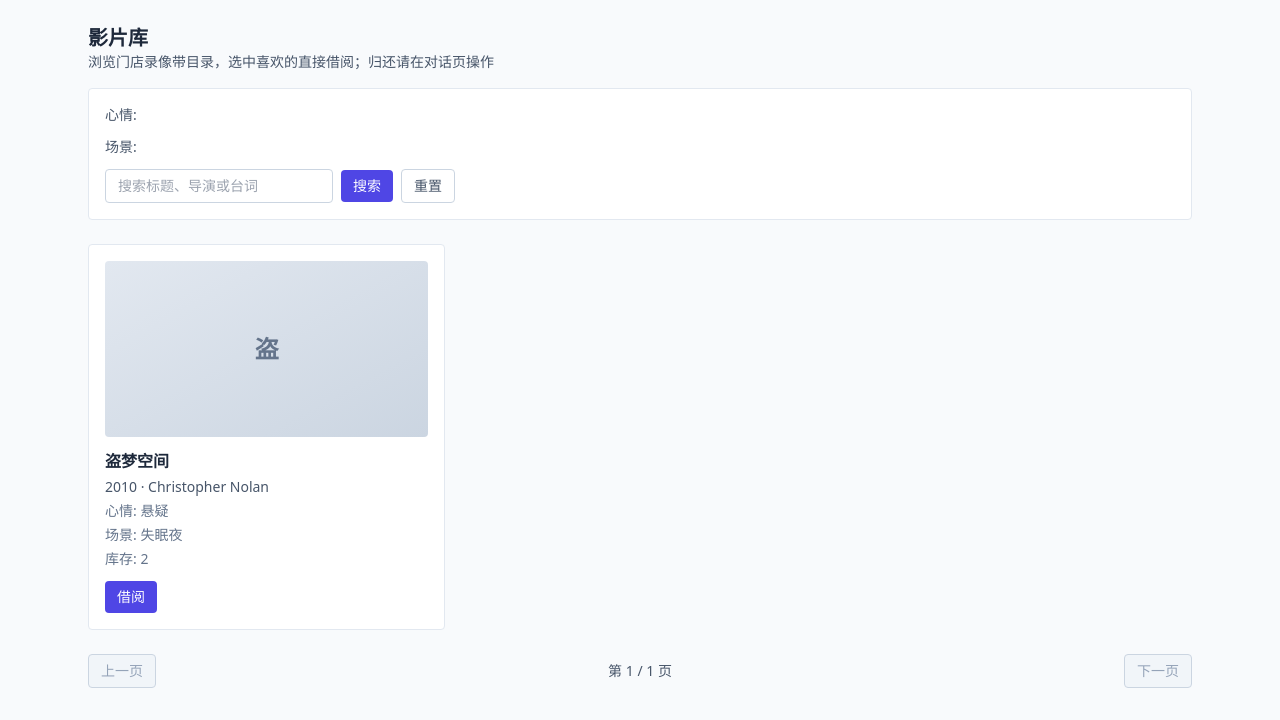
Scenario: MovieLibraryPage › shows an in-card friendly error when the borrow conflicts
Expected: the heading "盗梦空间" is shown, [105,450,169,472]
Click the button "借阅": (131, 597) [105,581,157,613]
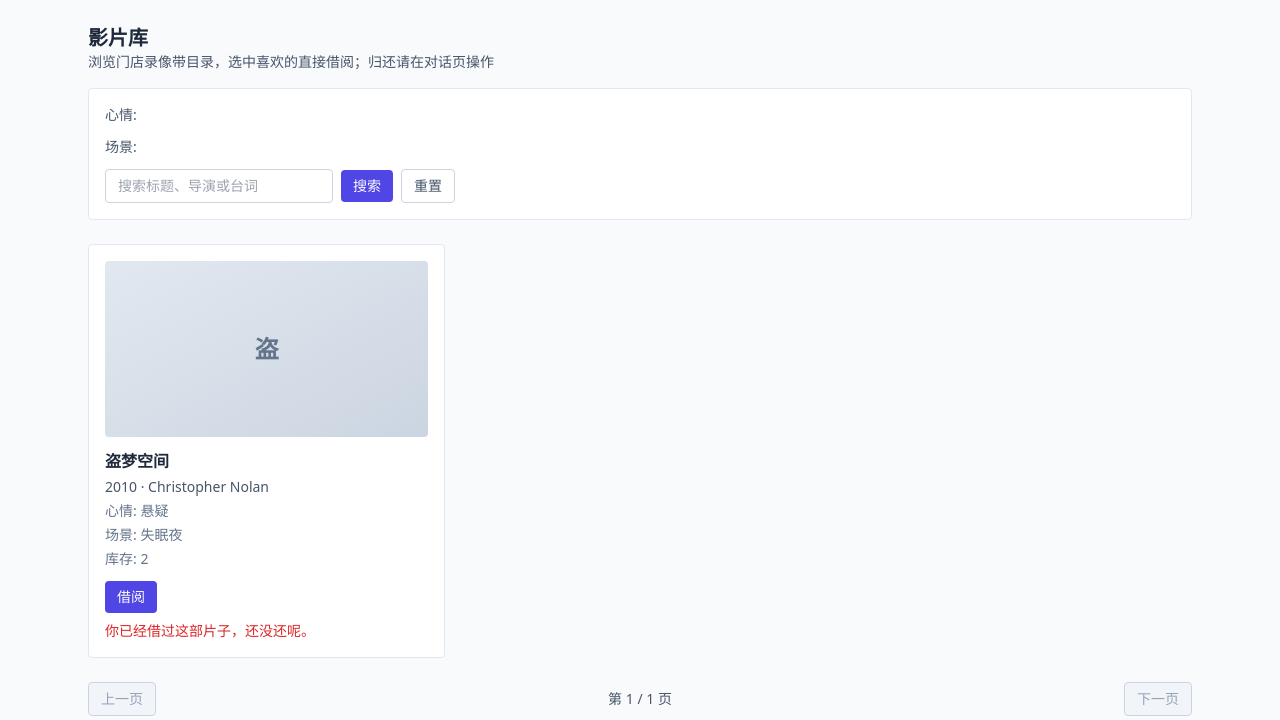
Result: the text "你已经借过这部片子，还没还呢。" is shown at [105,621,315,640]
